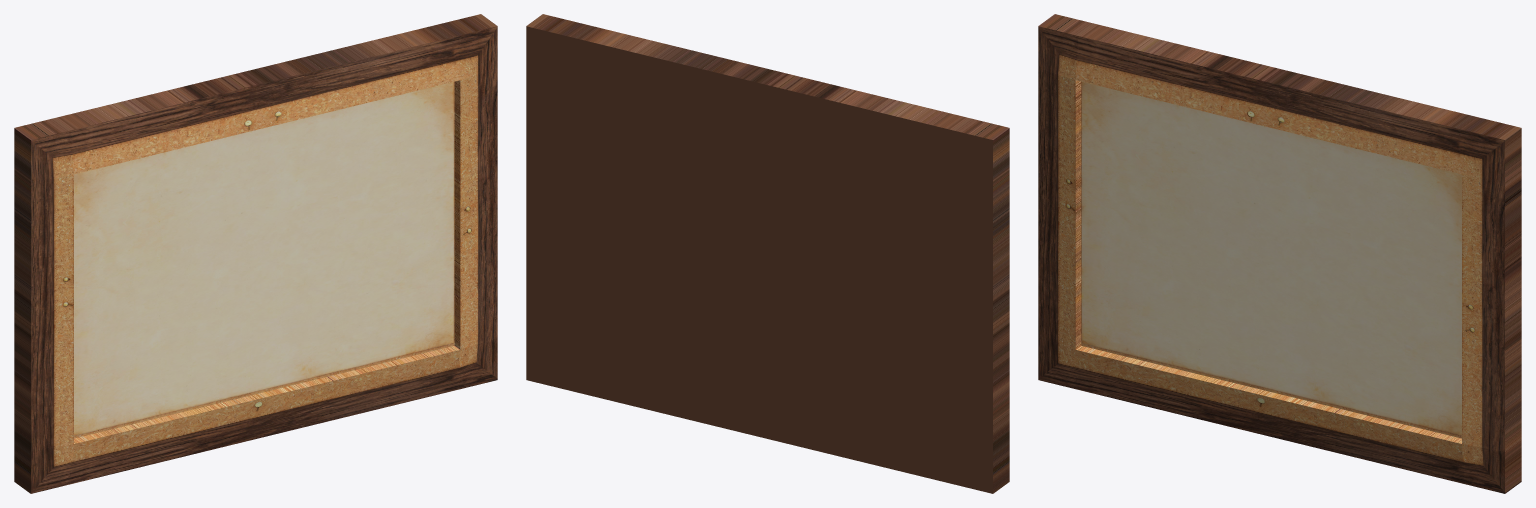
The model's file is panel_case.glb.
3 views of the same model, side by side, from view 1: azimuth 30°, elevation 25°; view 2: azimuth 150°, elevation 25°; view 3: azimuth 330°, elevation 25° (orthographic).
Parts seen in each view (by area): view 1: panel_case; view 2: panel_case; view 3: panel_case.
Boxes of the visible parts, x1=… form: panel_case: x1=14, y1=14, x2=497, y2=493; panel_case: x1=526, y1=14, x2=1009, y2=493; panel_case: x1=1038, y1=14, x2=1521, y2=493.
Size of the model in its own units: 0.58 by 0.42 by 0.042.
1 material, 1 textured.
